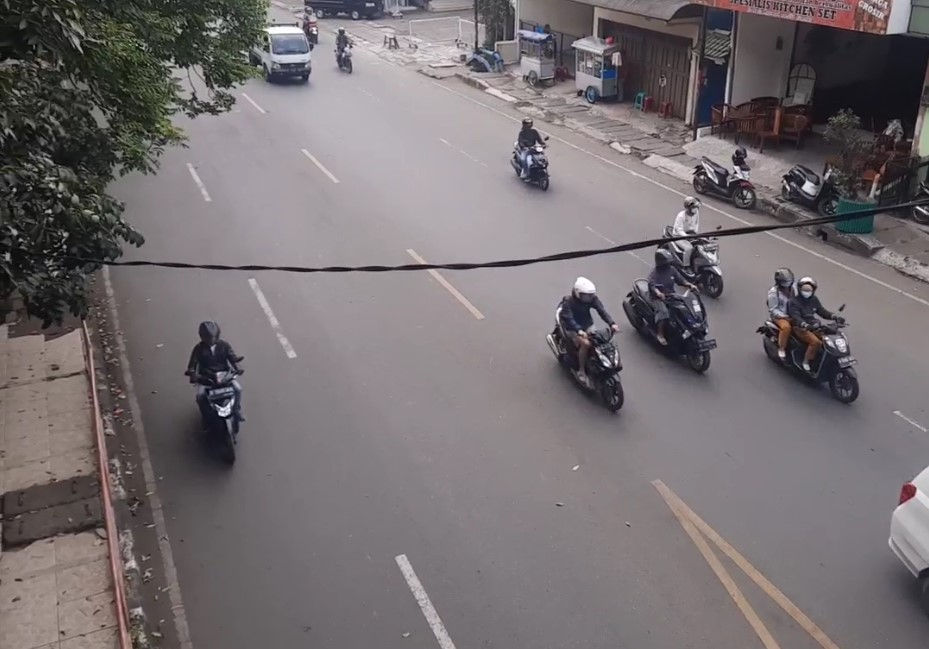mobil: (267, 31, 312, 81)
motor: (761, 264, 865, 412), (544, 279, 636, 422), (631, 264, 715, 377), (184, 320, 246, 466), (656, 196, 734, 294), (507, 115, 557, 188), (329, 23, 367, 76)
